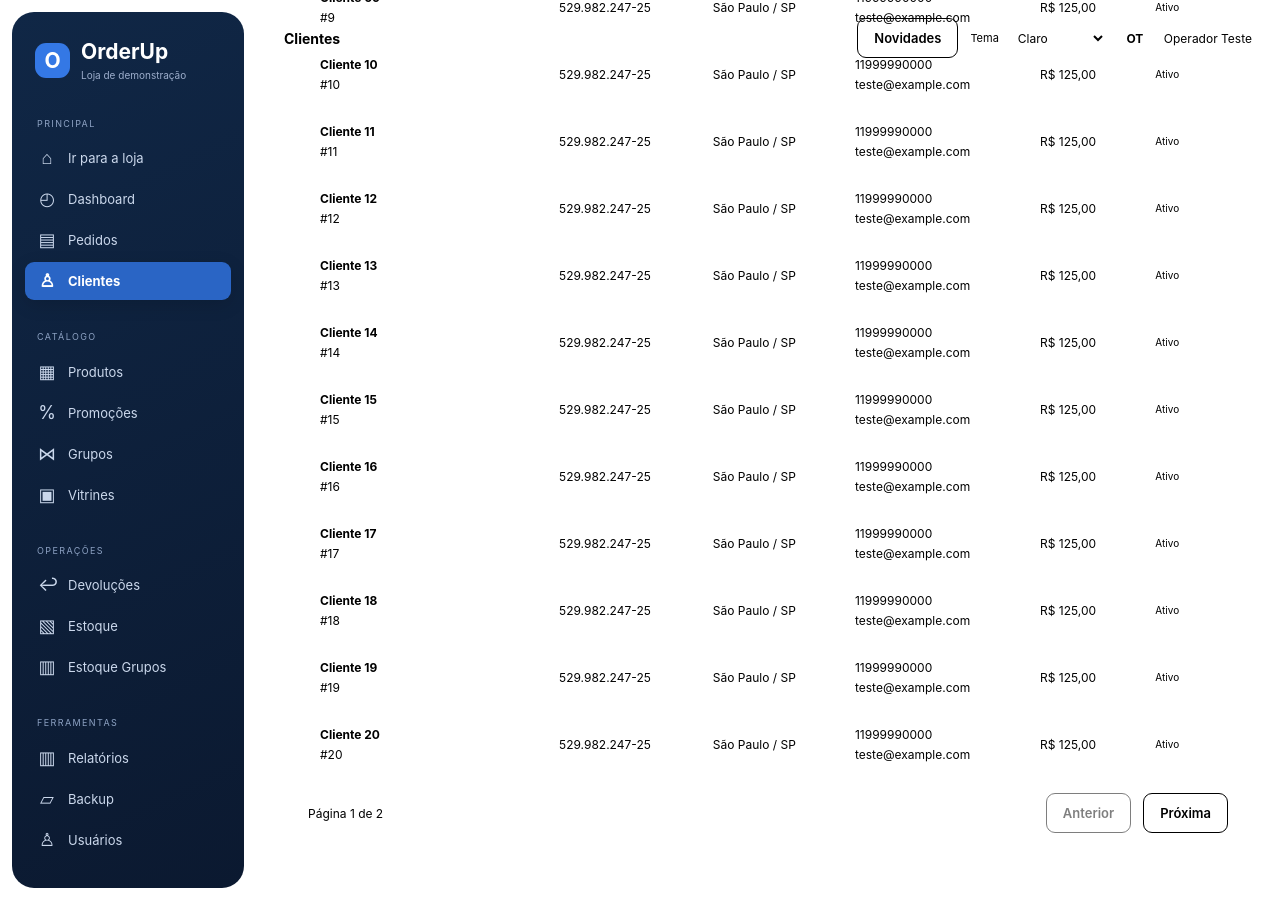
Test case: Clientes › retorna à última página disponível quando a lista diminui
The image size is (1280, 900).
(page scrolled)
Click the button "Próxima".
click(1186, 813)  # box x1=1143 y1=793 x2=1228 y2=833
(page scrolled)
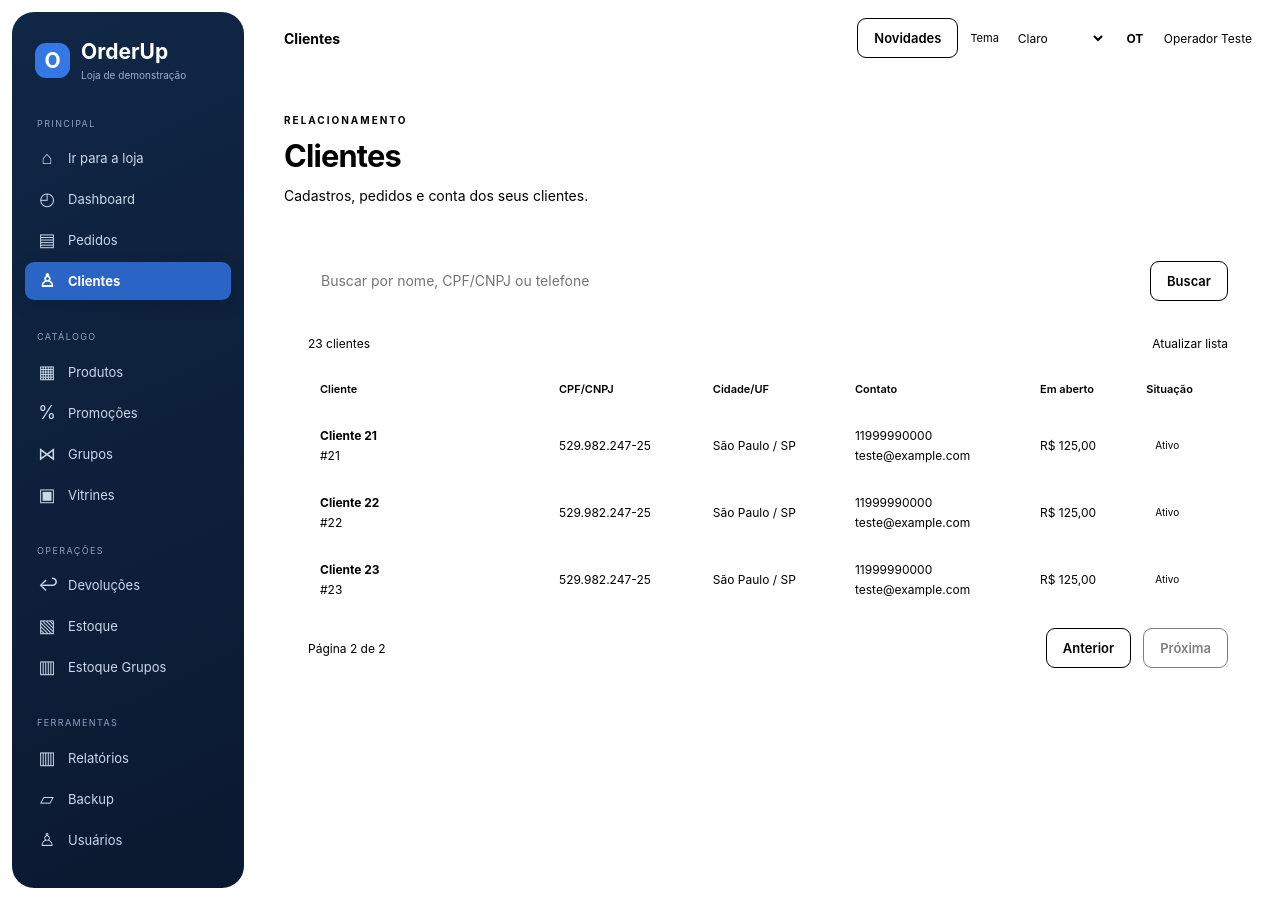
Expected: the button "Cliente 23" is shown, x1=320 y1=562 x2=380 y2=577
Click the button "Atualizar lista".
click(1190, 344)  # box x1=1152 y1=336 x2=1228 y2=351
(page scrolled)
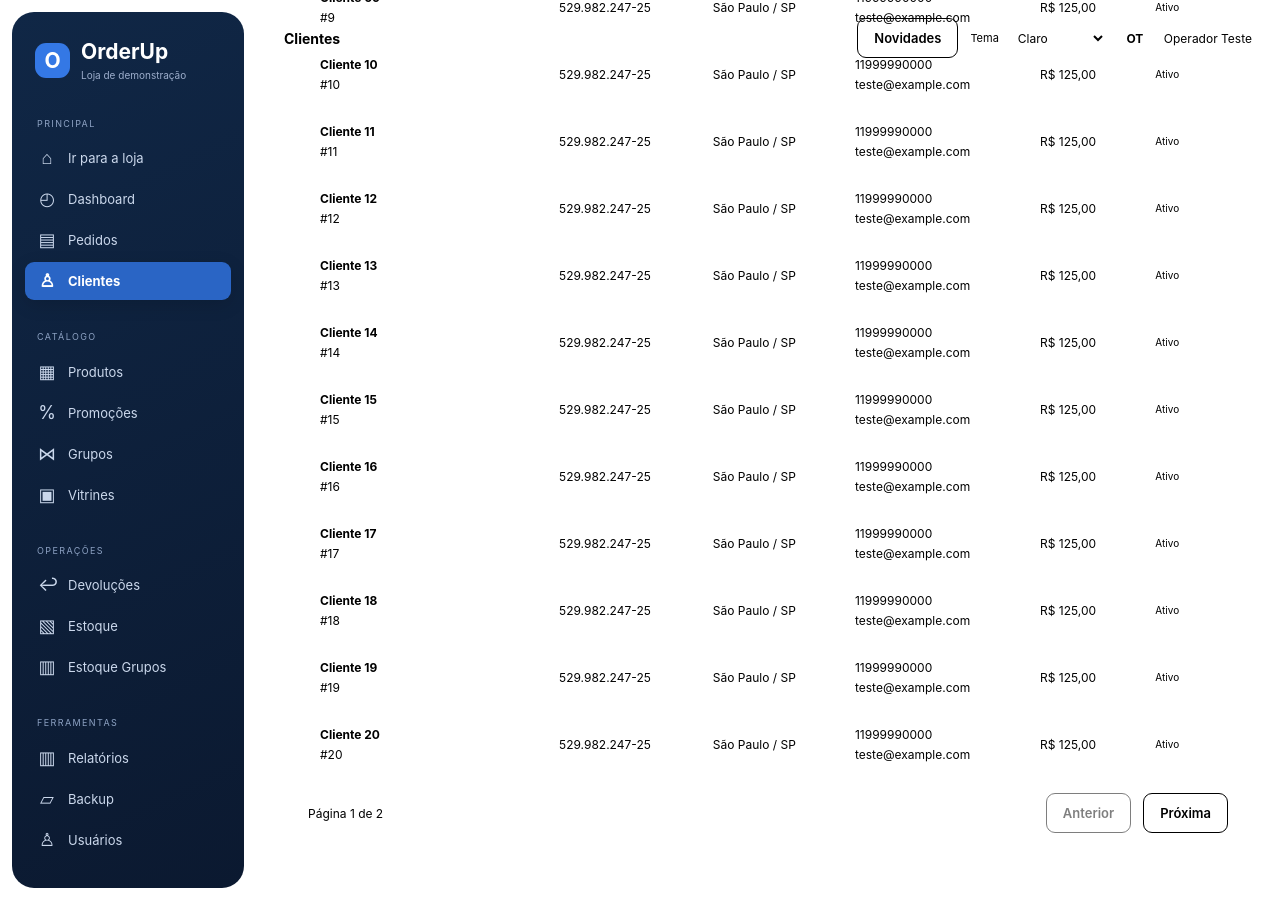
Expected: the button "Anterior" is disabled, x1=1046 y1=793 x2=1131 y2=833
